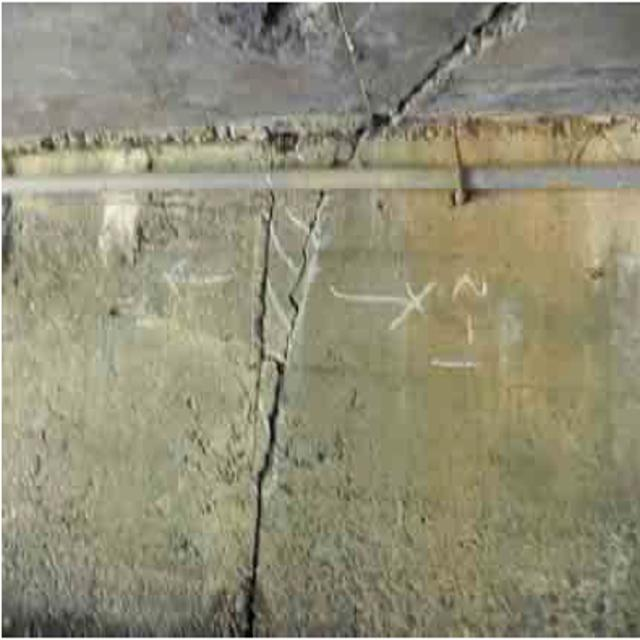crack: (222, 188, 312, 640), (333, 7, 538, 160)
